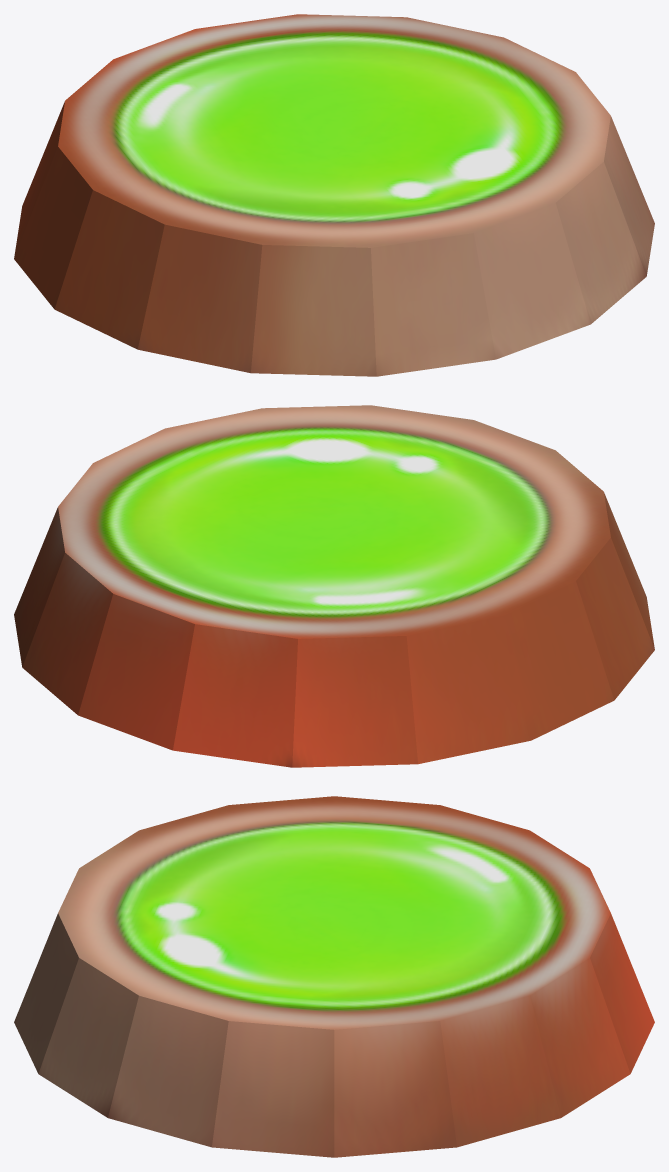
The model's file is LvlButtonSelectedModel.FBX.
3 views of the same model, one above another, from view 1: azimuth 30°, elevation 25°; view 2: azimuth 150°, elevation 25°; view 3: azimuth 270°, elevation 25° (orthographic).
Visible parts, largest first — view 1: LvlButtonSelectedModel; view 2: LvlButtonSelectedModel; view 3: LvlButtonSelectedModel.
Part boxes in pixels (x1,y1,x2,y2): LvlButtonSelectedModel: (14,14,654,376); LvlButtonSelectedModel: (14,405,654,767); LvlButtonSelectedModel: (14,796,654,1157).
Size of the model in its own units: 58.15 by 58.15 by 10.94.
1 material, 1 textured.
